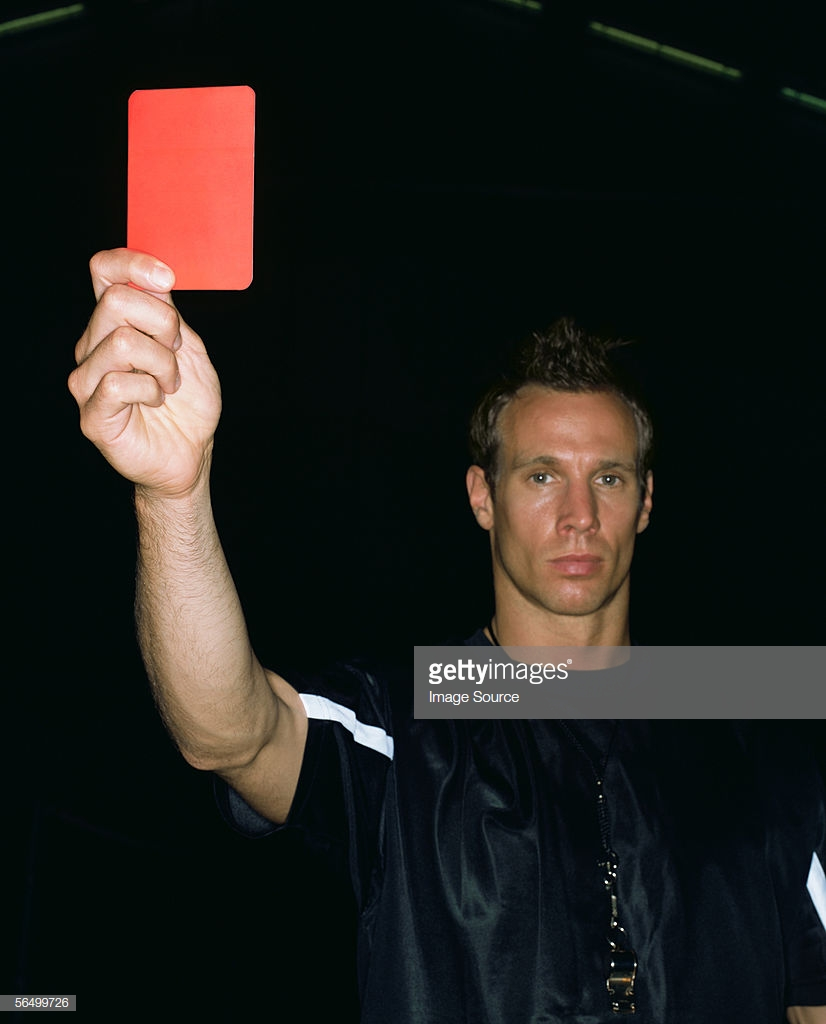red_card: (45, 79, 321, 507)
